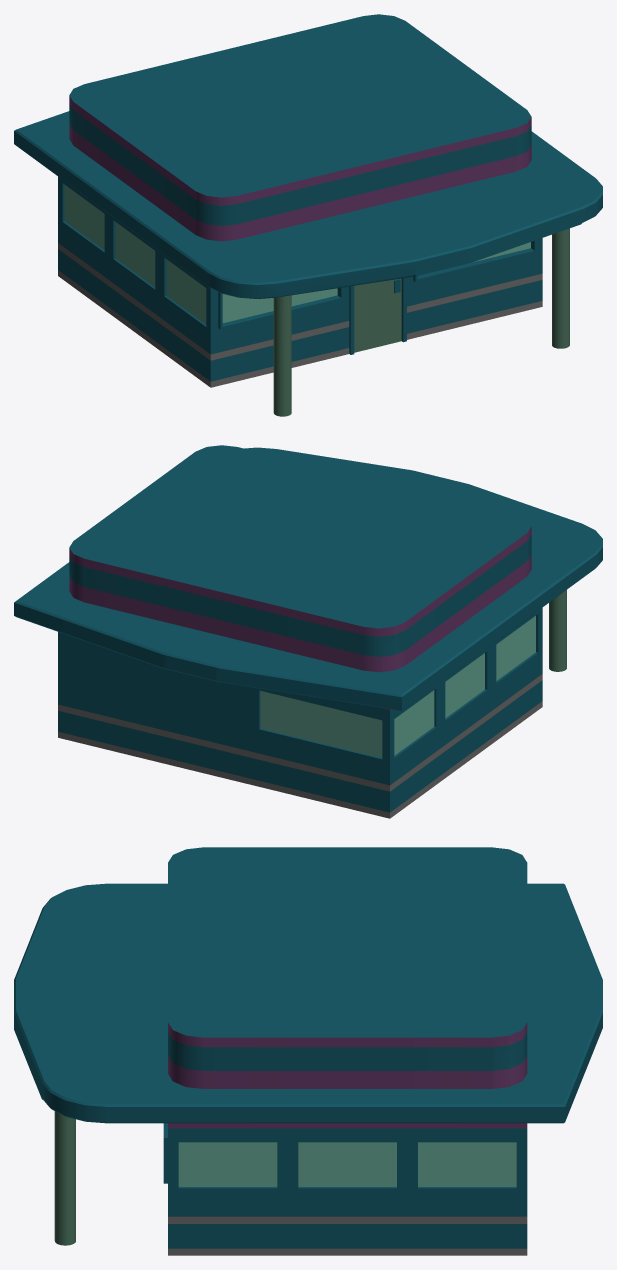
File: GasStation.fbx
3 renders of one model, top to bottom at view 1: azimuth 30°, elevation 25°; view 2: azimuth 150°, elevation 25°; view 3: azimuth 270°, elevation 25°, orthographic. The views are drawn at different scales.
Visible parts, largest first — view 1: pCylinder3; view 2: pCylinder3; view 3: pCylinder3.
Part boxes in pixels (bbox=[...]): pCylinder3: bbox=[14, 14, 602, 416]; pCylinder3: bbox=[14, 445, 602, 818]; pCylinder3: bbox=[14, 847, 602, 1255].
Size of the model in its own units: 8.55 by 3.91 by 9.56.
